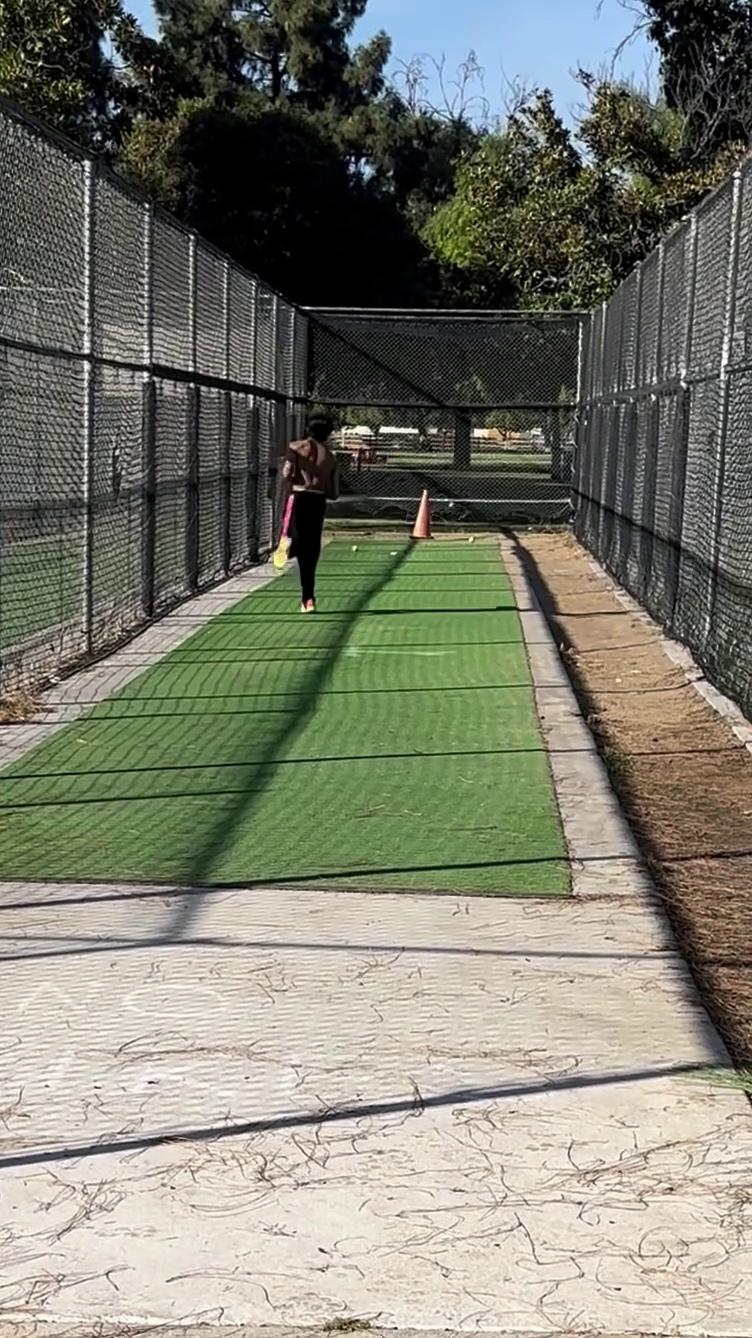ball: (444, 499, 458, 513)
